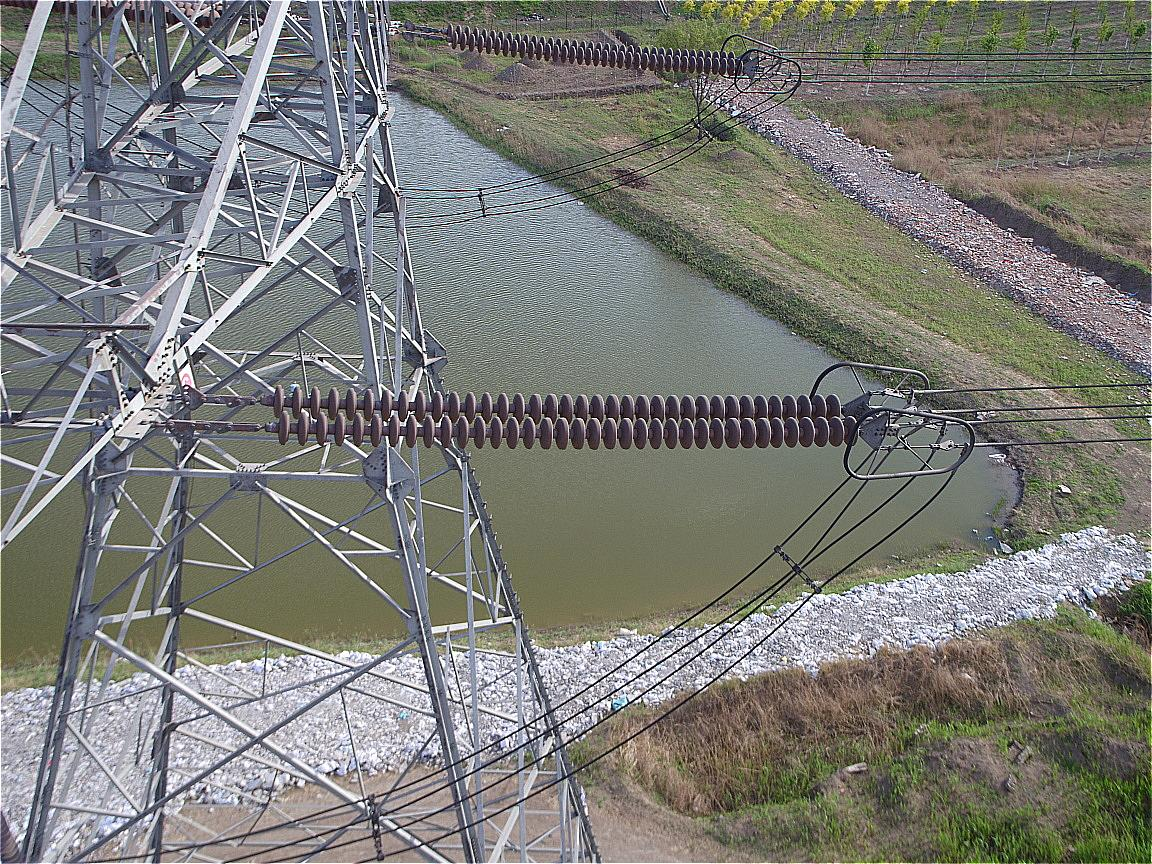insultor1: (260, 370, 883, 465), (435, 14, 769, 92)
